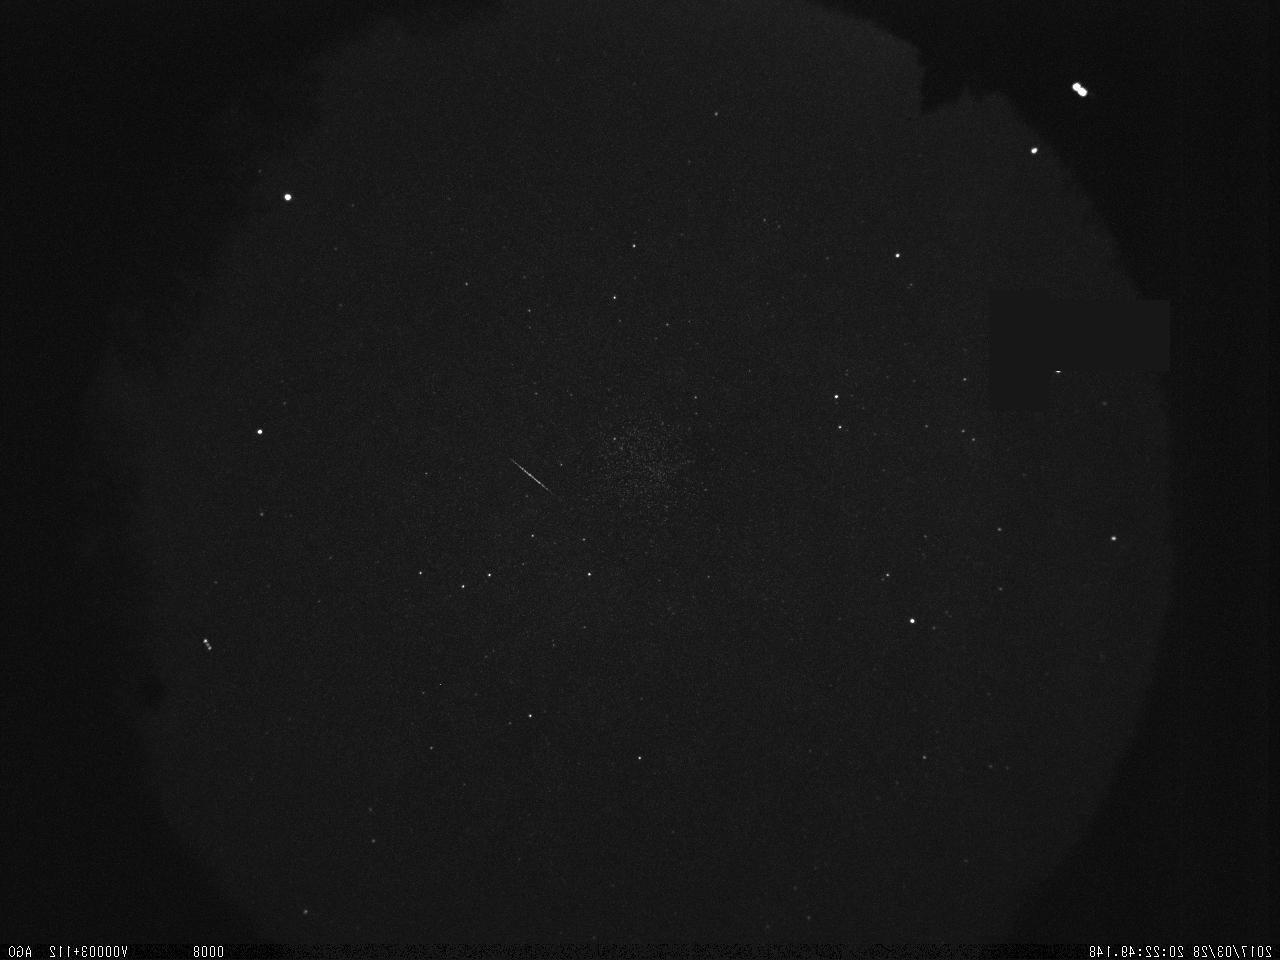meteor: (501, 453, 557, 493)
